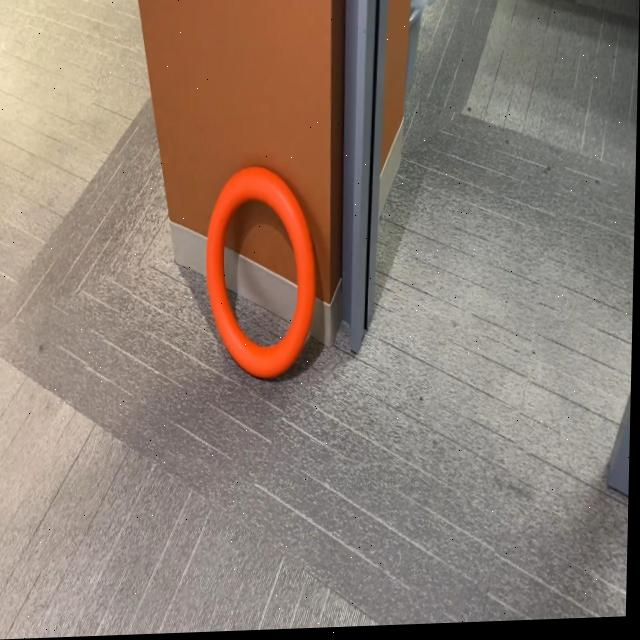note: (203, 163, 321, 386)
